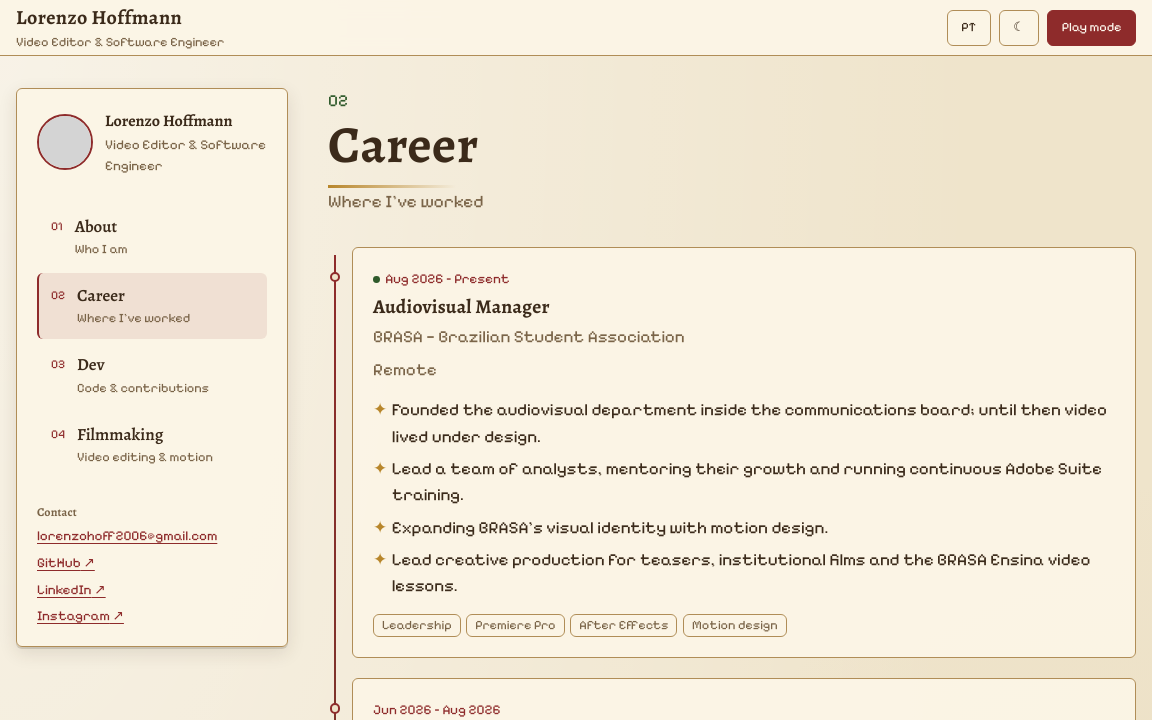
Test: App › switches language
Click the button with aria-label "Mudar para português": [969, 28] box [947,10,990,46]
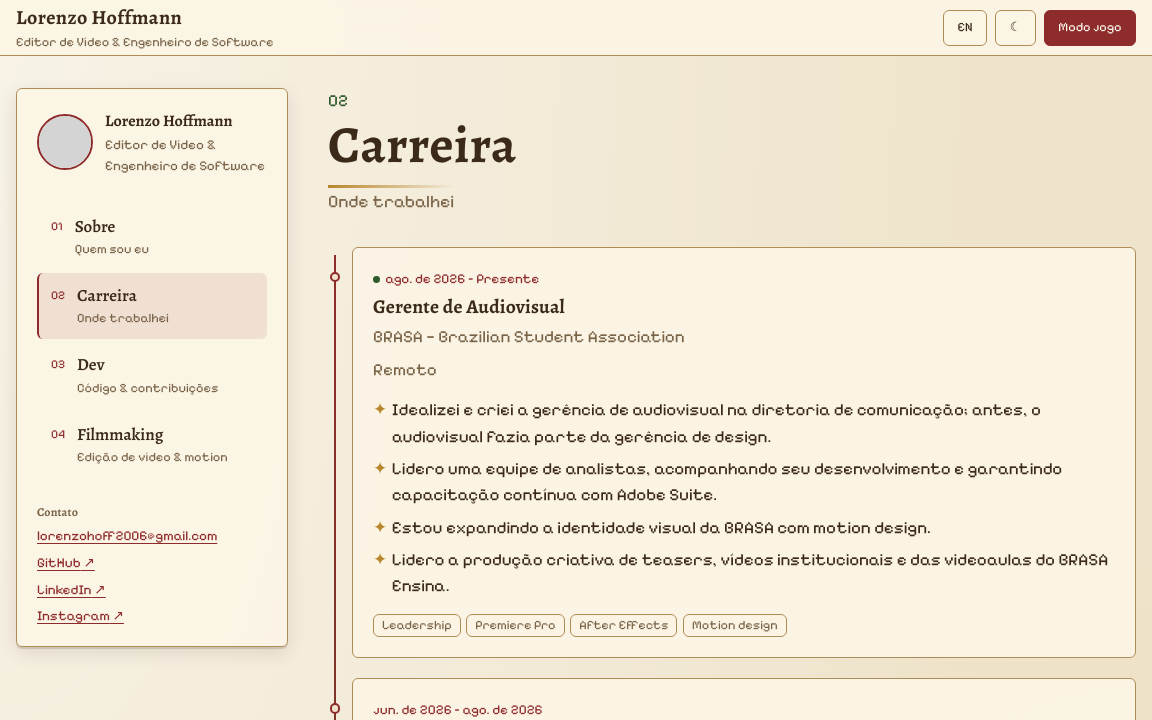
Expected: the heading "Carreira" is shown, [328,109,517,180]
